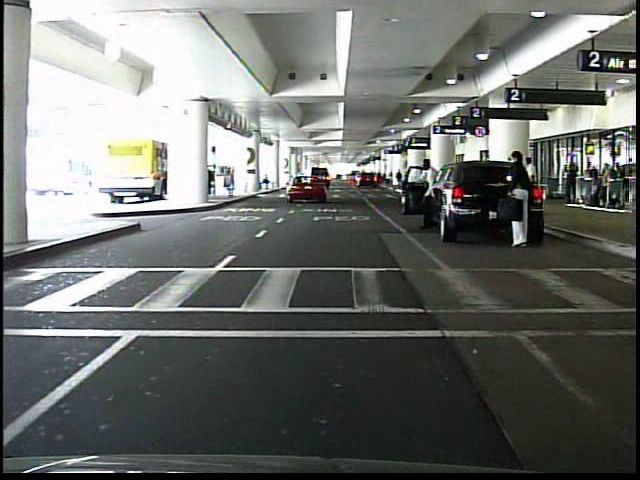person: (505, 152, 540, 255), (418, 157, 441, 234), (521, 154, 542, 215), (564, 159, 577, 204), (395, 169, 404, 188)
